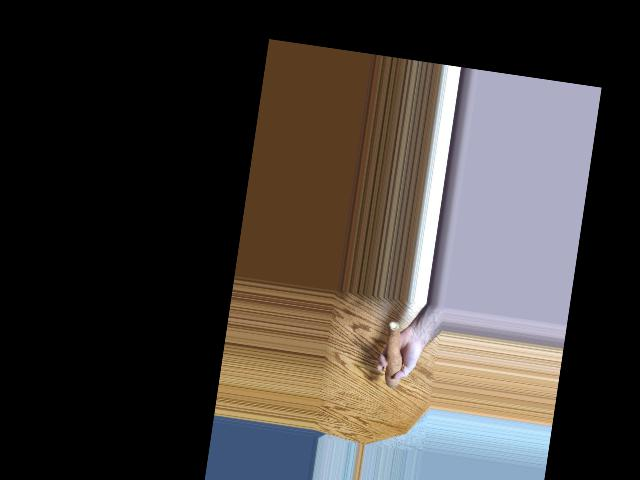sweet_potato: (379, 326, 408, 384)
